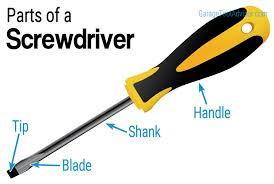screwdriver: (5, 4, 270, 178)
